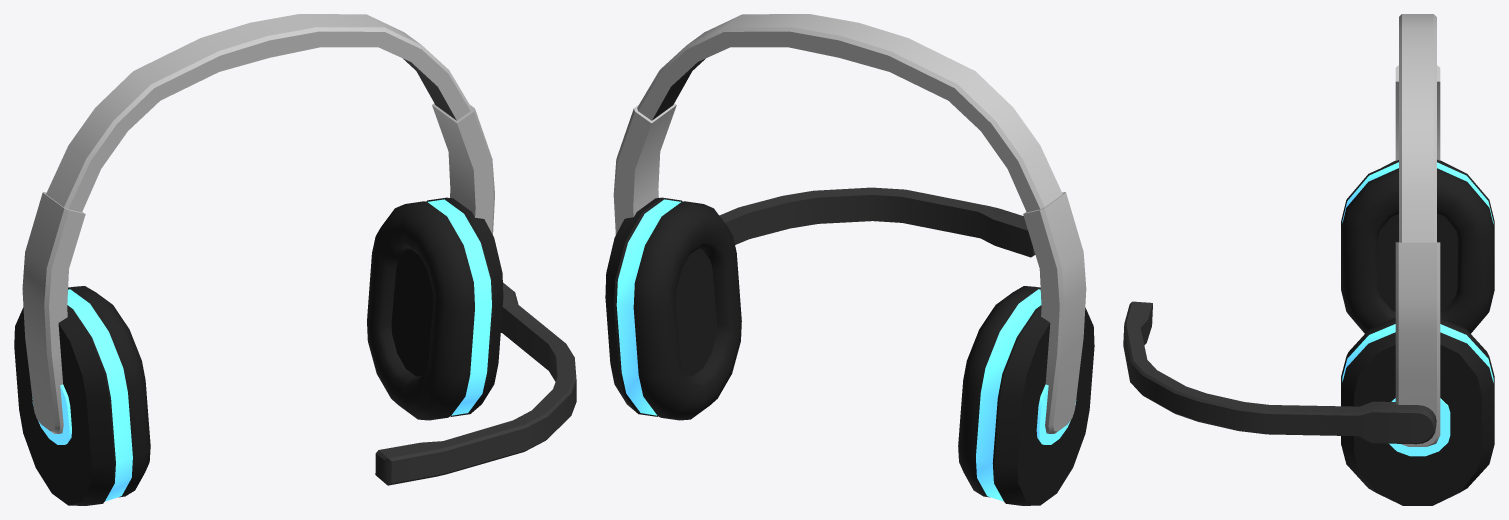
The model's file is headphones_1.glb.
3 views of the same model, side by side, from view 1: azimuth 30°, elevation 25°; view 2: azimuth 150°, elevation 25°; view 3: azimuth 270°, elevation 25° (orthographic). The views are drawn at different scales.
Parts seen in each view (by area): view 1: Headset 2, Headset Mic 3; view 2: Headset 2, Headset Mic 3; view 3: Headset 2, Headset Mic 3.
Part boxes in pixels (left/top/right/bottom): Headset 2: left=14, top=14, right=503, bottom=505; Headset Mic 3: left=375, top=282, right=576, bottom=485; Headset 2: left=605, top=14, right=1094, bottom=505; Headset Mic 3: left=719, top=187, right=1035, bottom=257; Headset 2: left=1341, top=14, right=1494, bottom=505; Headset Mic 3: left=1123, top=301, right=1436, bottom=444.
Bounding box in the file's own units: 0.3074 × 0.2719 × 0.2432.
3 materials, 2 textured.
